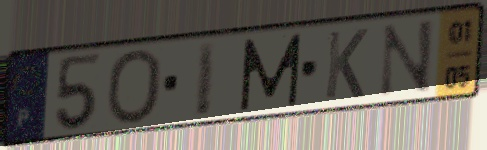5: (52, 50, 103, 135)
I: (192, 38, 220, 121)
K: (322, 26, 371, 102)
M: (238, 31, 305, 114)
N: (375, 16, 436, 100)
O: (103, 46, 165, 127)
